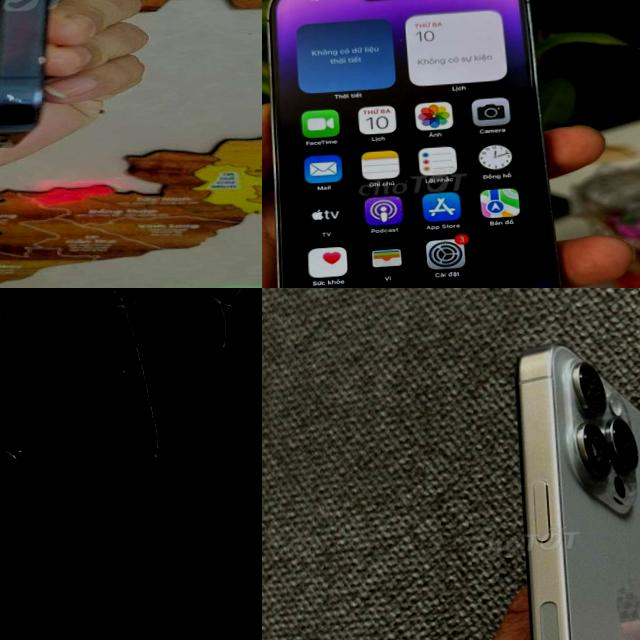gen_12_13: (0, 0, 98, 155)
gen_14: (262, 0, 586, 288)
gen_15: (478, 325, 640, 640)
gen_7_8: (0, 288, 262, 640)
physical_damage: (160, 596, 188, 640), (0, 444, 37, 466), (144, 427, 168, 460), (142, 546, 158, 588), (107, 288, 132, 311), (128, 346, 148, 374), (211, 334, 237, 355), (122, 312, 140, 342), (201, 291, 231, 309), (140, 503, 154, 540), (6, 470, 27, 494), (141, 374, 155, 400), (145, 403, 160, 426), (0, 516, 14, 539), (3, 498, 20, 512), (154, 461, 159, 499), (0, 357, 16, 368), (213, 479, 232, 488), (194, 466, 208, 478), (180, 456, 193, 468), (241, 302, 259, 310), (116, 370, 128, 381)
